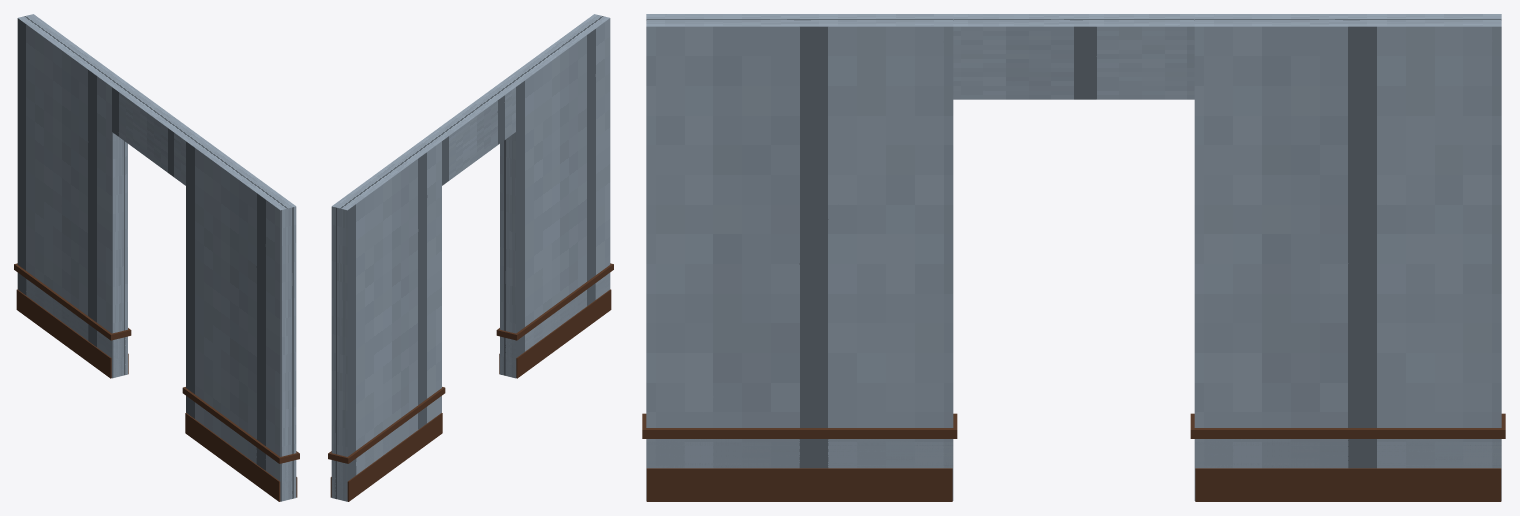
File: dining_kitchen.glb
The picture shows the model from 3 angles, left to right: view 1: azimuth 30°, elevation 25°; view 2: azimuth 150°, elevation 25°; view 3: azimuth 270°, elevation 25°; orthographic projection. The views are drawn at different scales.
Visible parts, largest first — view 1: Box3, Box1, Box5, Box4, Box2, Box6, Box7, Box9, Box8; view 2: Box1, Box3, Box5, Box2, Box4, Box8, Box7, Box9; view 3: Box3, Box1, Box5, Box2, Box4, Box8, Box6, Box7, Box9.
Part boxes in pixels (box(x1,y1,x2,y2)): Box3: box(186, 137, 296, 501); Box1: box(17, 14, 127, 378); Box5: box(112, 83, 201, 185); Box4: box(185, 413, 297, 501); Box2: box(16, 289, 128, 378); Box6: box(17, 273, 127, 377); Box7: box(14, 263, 131, 340); Box9: box(182, 387, 299, 463); Box8: box(227, 435, 296, 500); Box1: box(331, 137, 441, 501); Box3: box(500, 14, 610, 378); Box5: box(426, 83, 515, 185); Box2: box(330, 413, 442, 501); Box4: box(499, 289, 611, 378); Box8: box(500, 273, 610, 377); Box7: box(328, 387, 445, 463); Box9: box(496, 263, 613, 340); Box3: box(646, 14, 953, 500); Box1: box(1194, 14, 1501, 500); Box5: box(953, 14, 1194, 99); Box2: box(1195, 468, 1501, 501); Box4: box(646, 468, 952, 501); Box8: box(646, 439, 953, 498); Box6: box(1194, 439, 1501, 500); Box7: box(1190, 413, 1505, 438); Box9: box(642, 413, 957, 438).
Size of the model in its own units: 0.19 by 2.6 by 4.29.
2 materials, 1 textured.
